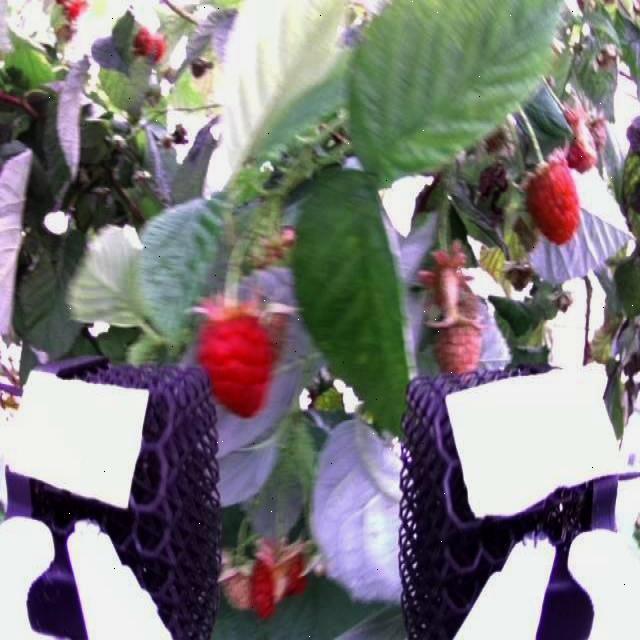Riped berries: (191, 296, 281, 419), (522, 156, 586, 248), (254, 538, 308, 619)
